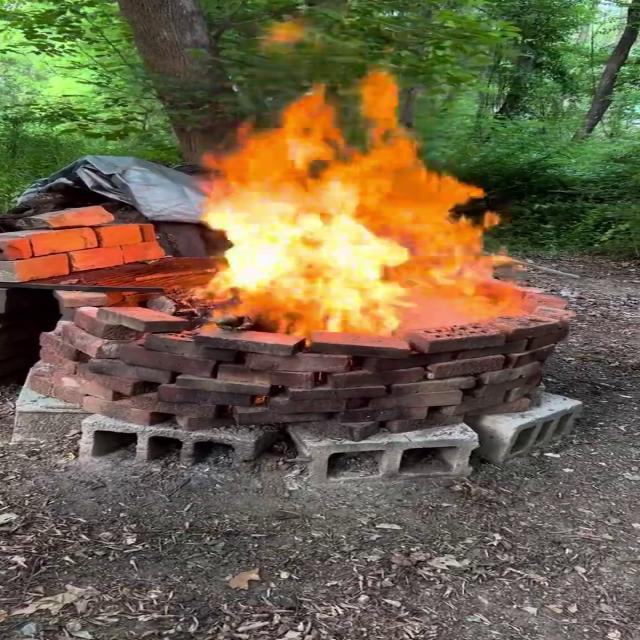Fire: (178, 59, 559, 346)
